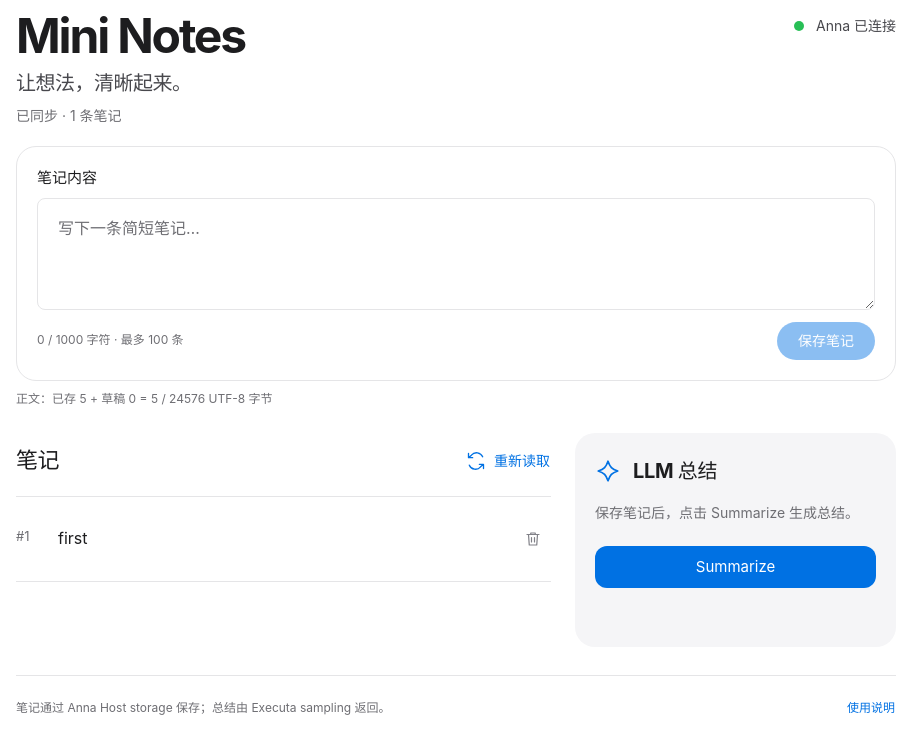
Mini Notes application › summarizes the fresh snapshot when the pre-summary Host read finds newer notes
Expected: the button "重新读取" is enabled, [457,442,551,478]
Click the button "Summarize" at (736, 566), box [595,546,876,588]
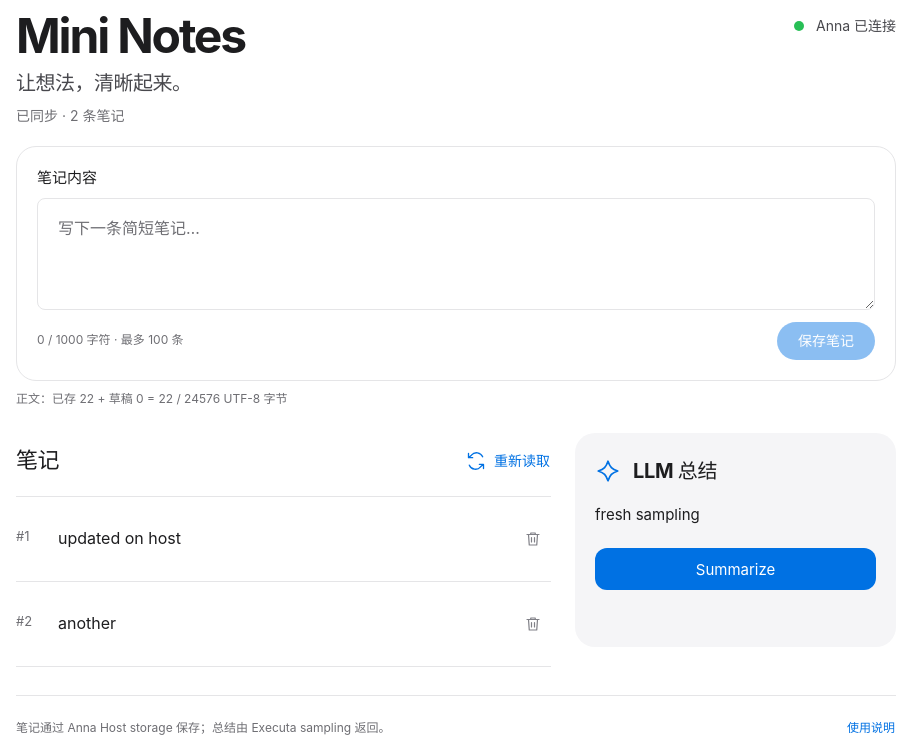
Result: the text with test id "summary-text" reads "fresh sampling" at [595,505,700,524]
